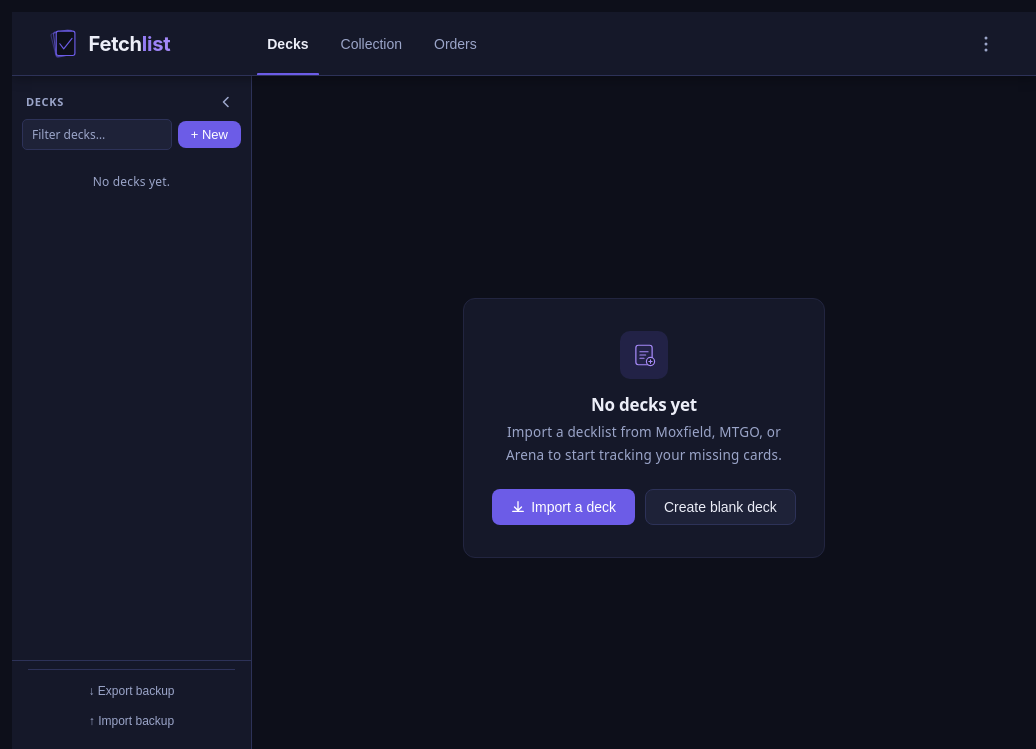
Test: Trade route › goes back to Collection from the breadcrumb
Click the button "Collection": [371, 44] box [324,12,418,75]
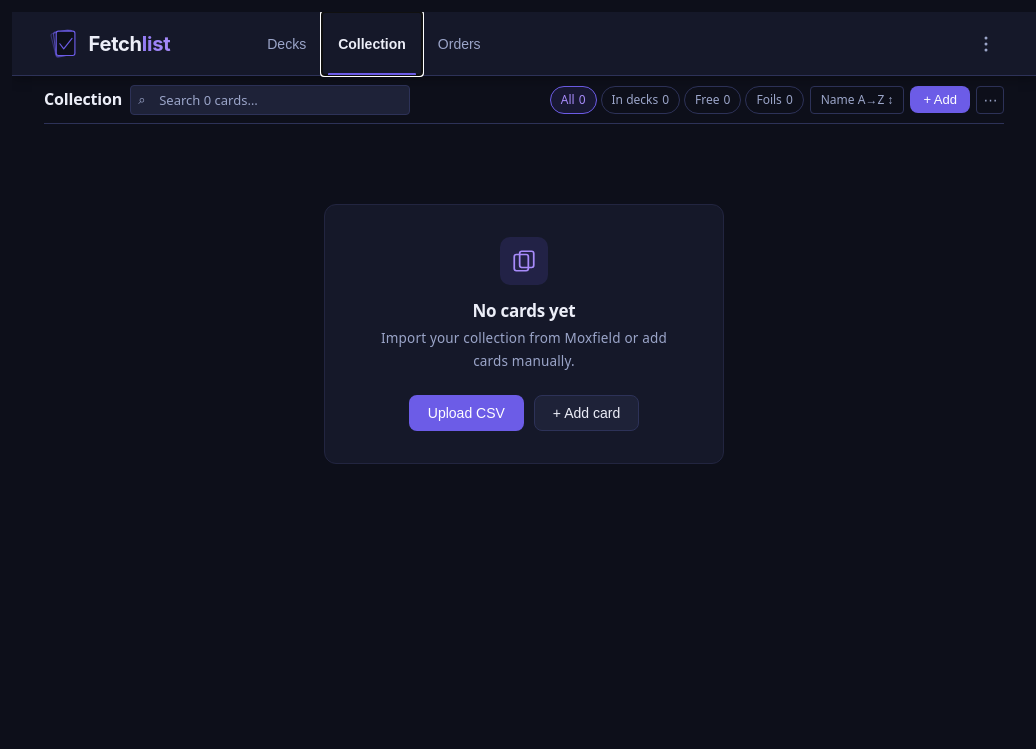
Click the button named "More options": [990, 100] box [976,86,1004,114]
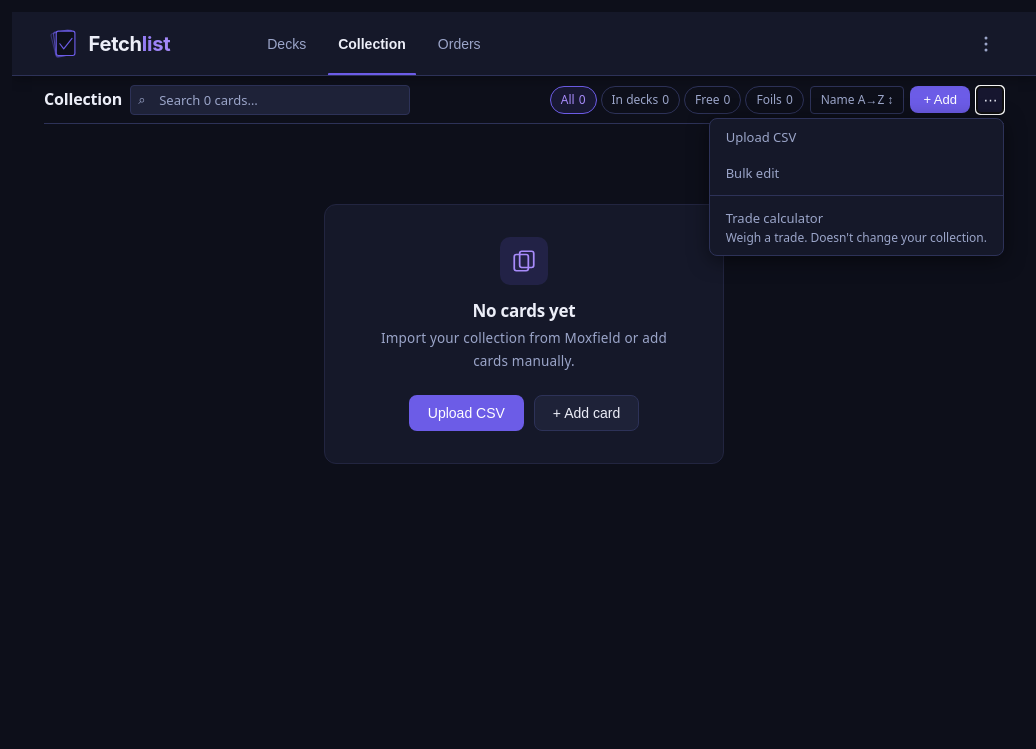
Click the button "Trade calculator": [856, 227] box [710,200,1003,254]
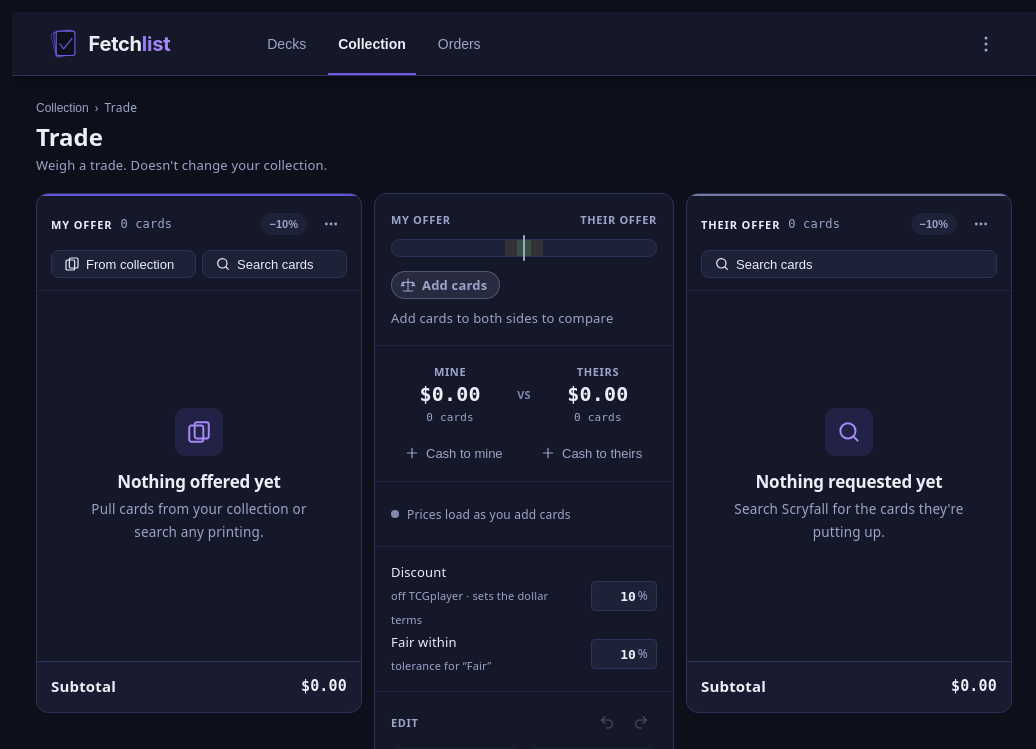
Click the 2nd button "Collection": [62, 108] box [36,101,89,115]
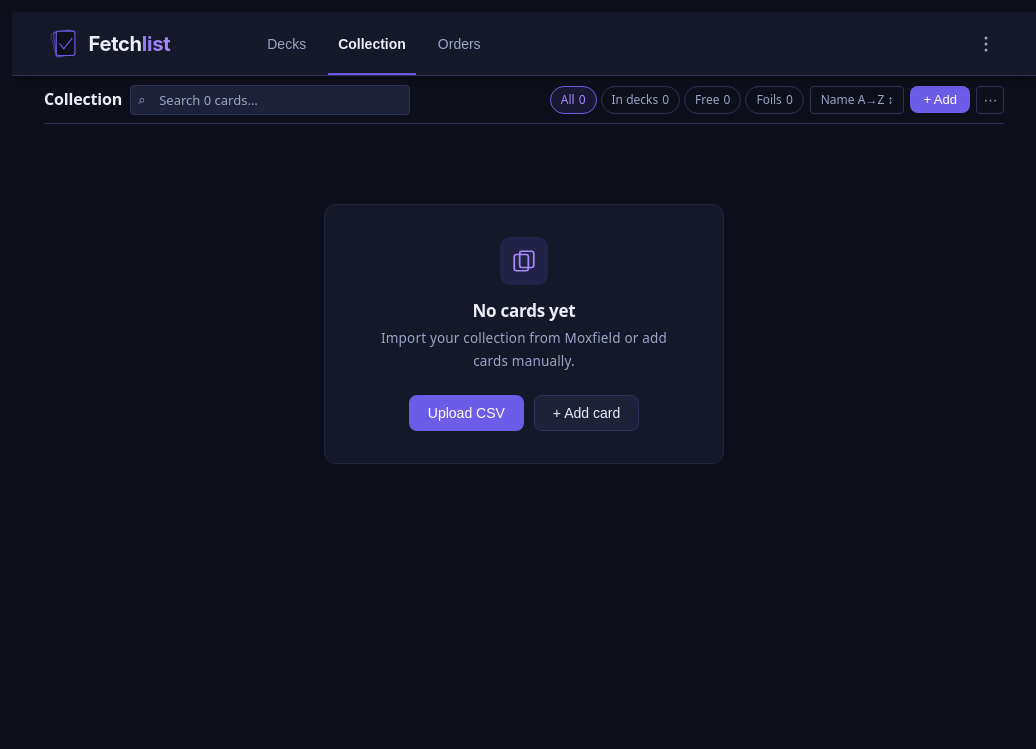
Expected: the text "Trade" is gone
Expected: the heading "No cards yet" is shown, [472,301,576,321]
